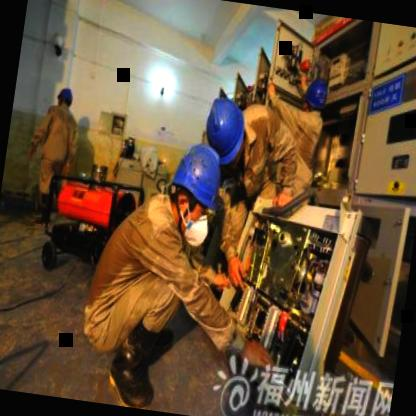helmet: (162, 138, 224, 239), (188, 96, 247, 172), (296, 70, 336, 126), (55, 82, 77, 112)
